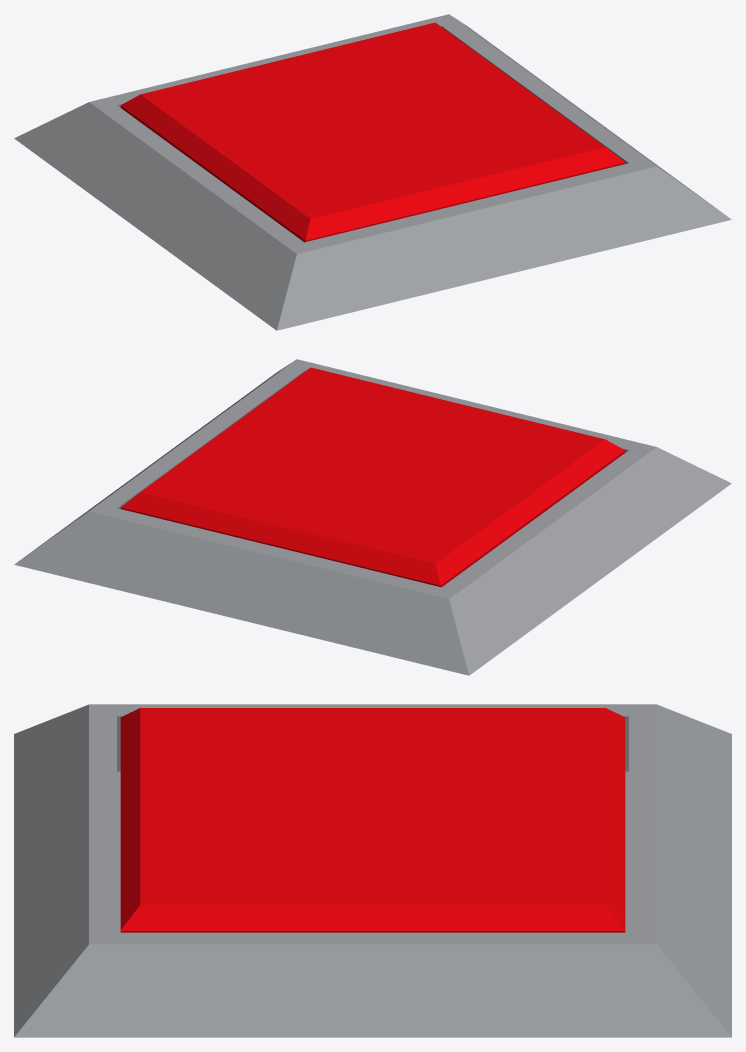
File: PressurePlate.fbx
3 views of the same model, one above another, from view 1: azimuth 30°, elevation 25°; view 2: azimuth 150°, elevation 25°; view 3: azimuth 270°, elevation 25° (orthographic). The views are drawn at different scales.
Visible parts, largest first — view 1: Small stand, Small Button; view 2: Small stand, Small Button; view 3: Small stand, Small Button.
Part boxes in pixels (x1,y1,x2,y2): Small stand: (14, 14, 731, 330); Small Button: (120, 22, 625, 242); Small stand: (14, 359, 731, 675); Small Button: (120, 367, 625, 587); Small stand: (14, 704, 731, 1037); Small Button: (120, 708, 625, 932).
Size of the model in its own units: 12.85 by 1.57 by 12.85.
